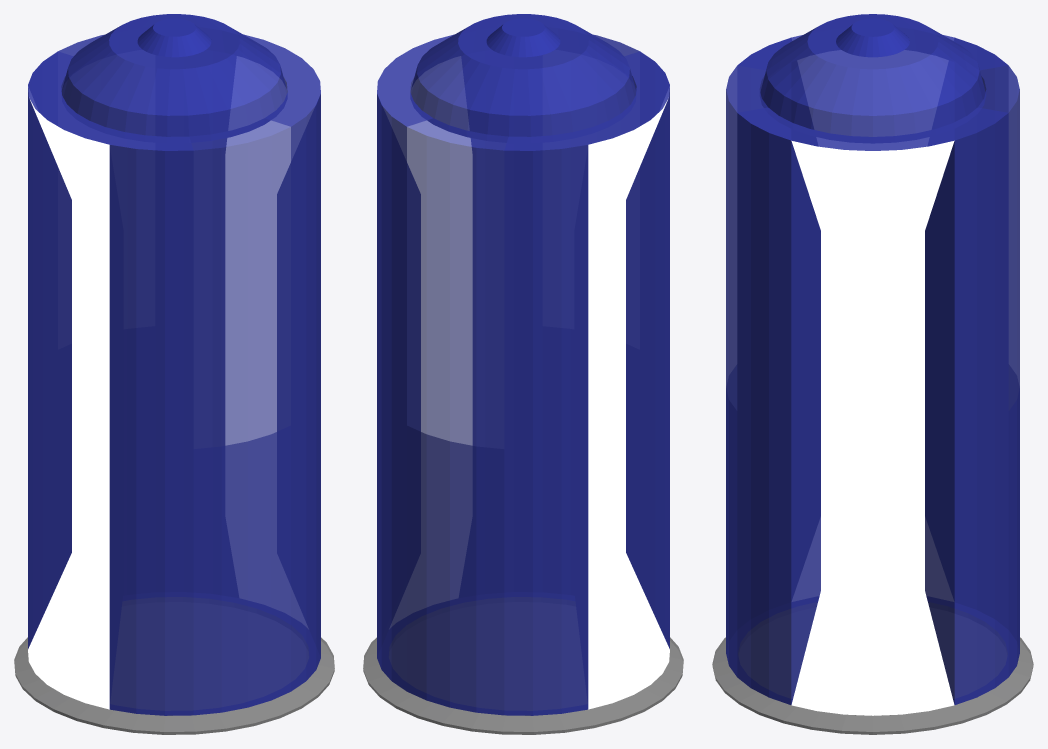
File: Time_Capsule.glb
3 renders of one model, left to right at view 1: azimuth 30°, elevation 25°; view 2: azimuth 150°, elevation 25°; view 3: azimuth 270°, elevation 25°, orthographic.
Parts seen in each view (by area): view 1: Machine, Glass, Bottom, Top; view 2: Machine, Glass, Bottom, Top; view 3: Machine, Glass, Bottom, Top.
Part boxes in pixels (bbox=[...]): Machine: bbox=[28, 14, 320, 715]; Glass: bbox=[28, 97, 290, 709]; Bottom: bbox=[14, 637, 334, 734]; Top: bbox=[137, 18, 211, 57]; Machine: bbox=[377, 14, 669, 715]; Glass: bbox=[407, 97, 669, 709]; Bottom: bbox=[363, 637, 683, 734]; Top: bbox=[486, 18, 560, 57]; Machine: bbox=[726, 14, 1019, 704]; Glass: bbox=[791, 140, 954, 715]; Bottom: bbox=[712, 637, 1033, 734]; Top: bbox=[836, 18, 909, 57].
Size of the model in its own units: 2.19 by 4.81 by 2.19.
